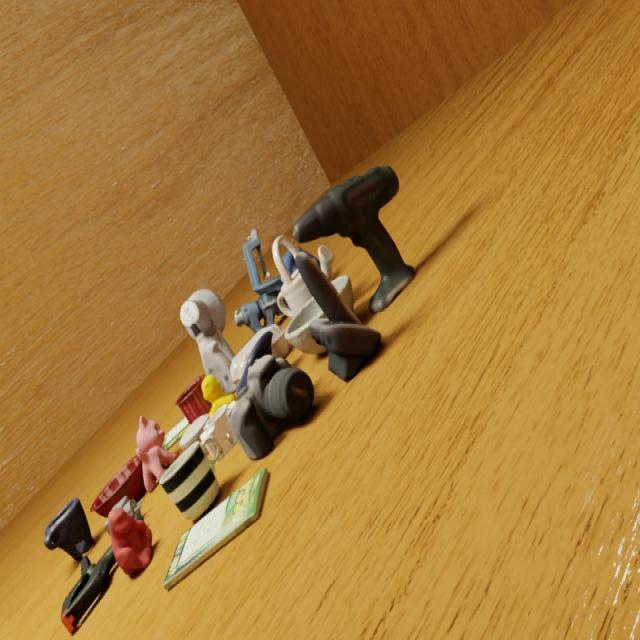Other Objects: (163, 468, 268, 588), (291, 245, 381, 380), (229, 353, 313, 457), (159, 443, 219, 521), (61, 549, 116, 633), (91, 455, 145, 516), (135, 416, 176, 491), (44, 499, 94, 560), (108, 507, 151, 576), (176, 376, 210, 423), (201, 375, 234, 416), (179, 413, 207, 448), (164, 417, 188, 447)
